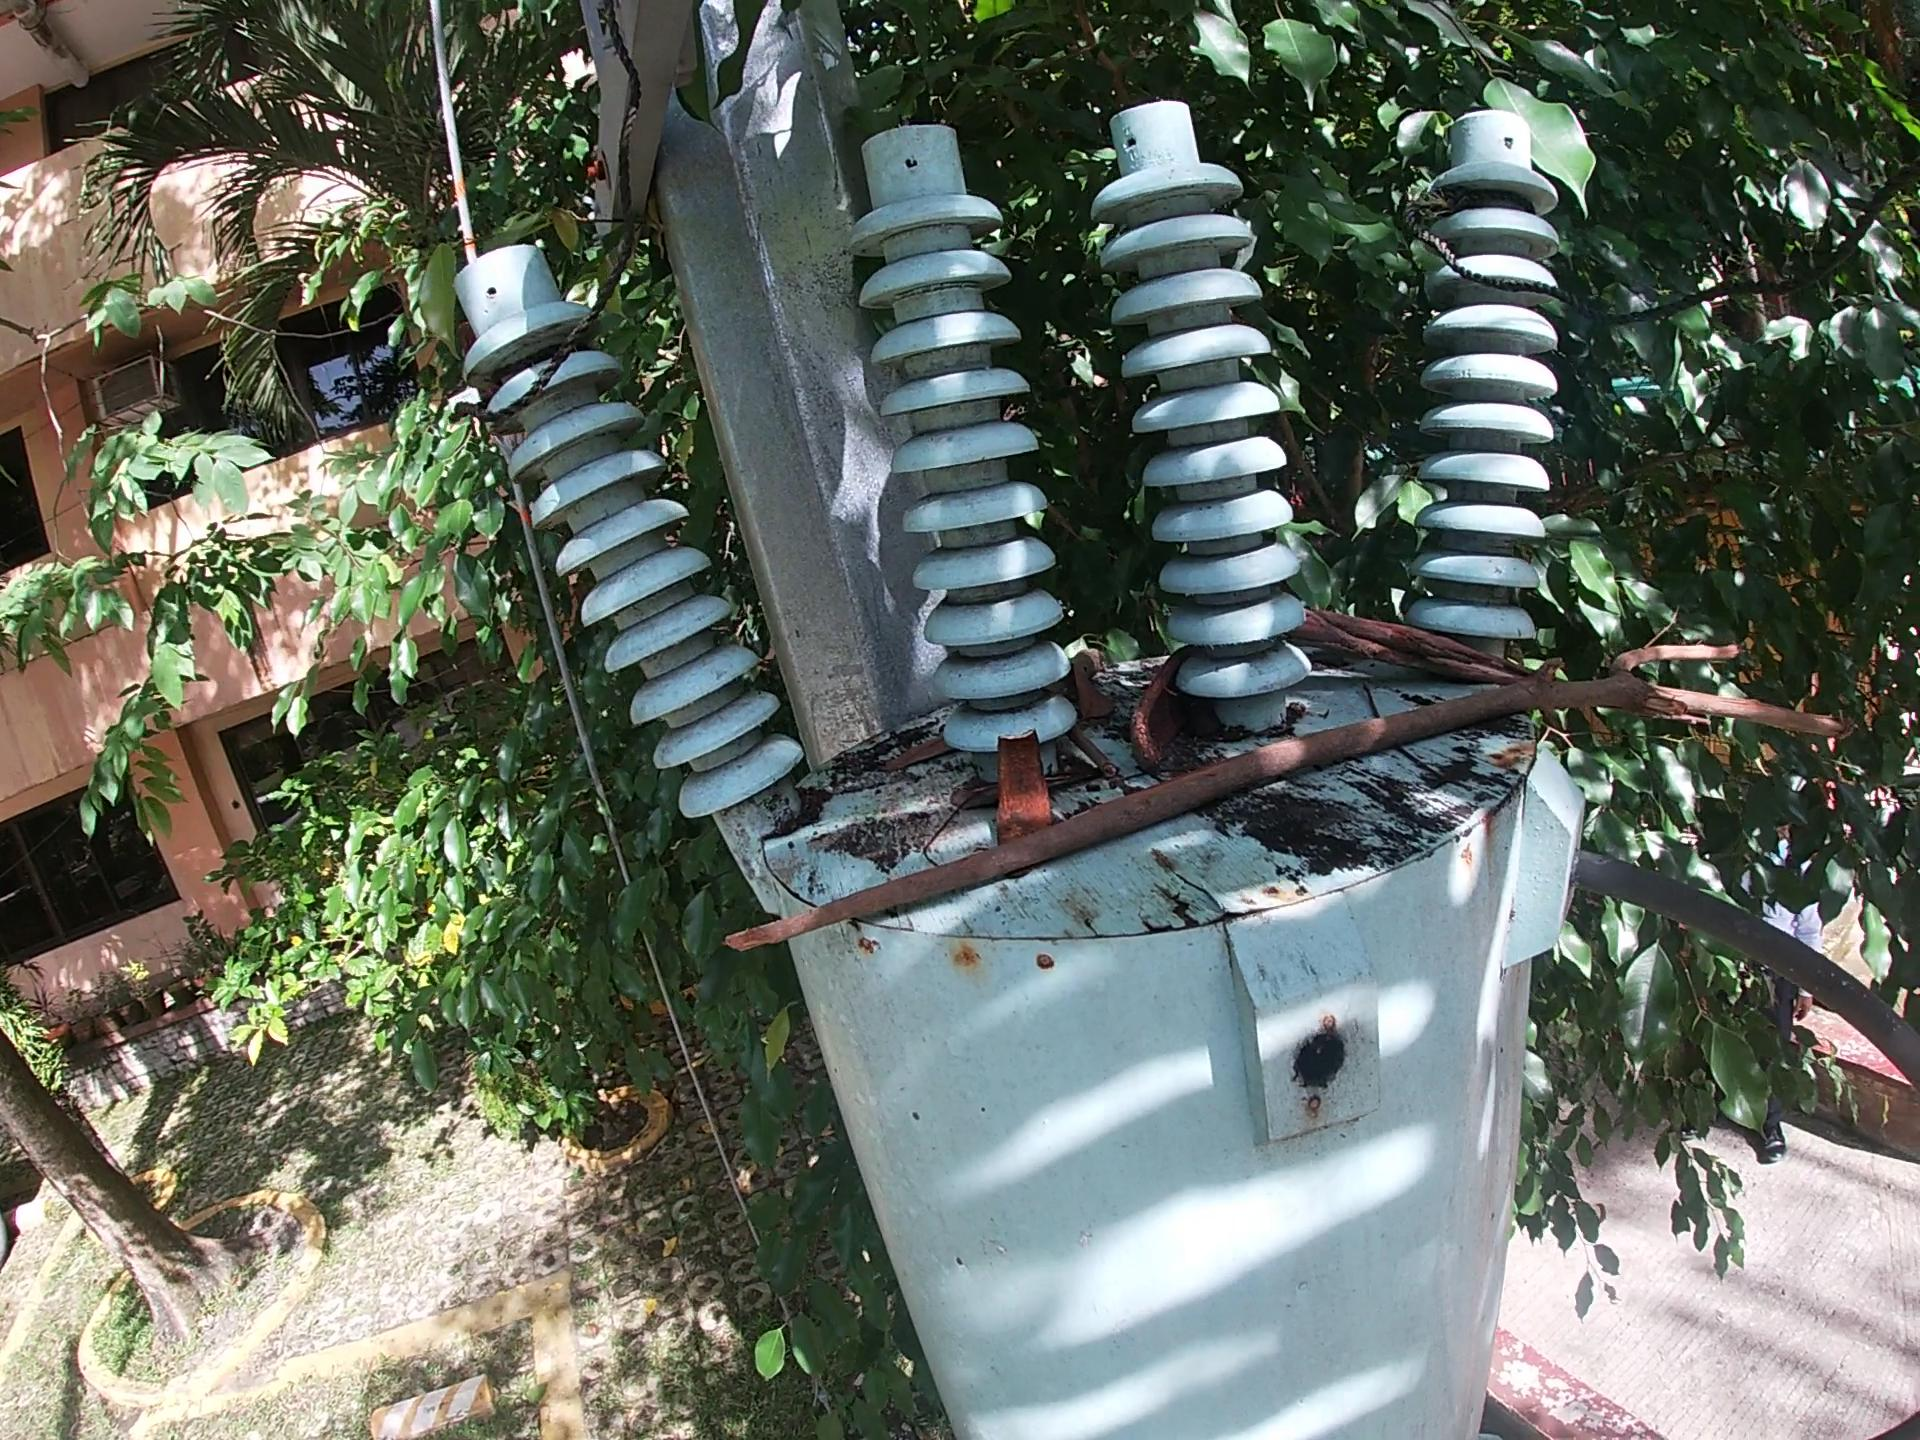leaf: (860, 725, 963, 777), (1067, 661, 1122, 723)
mahogany fruit: (1126, 641, 1203, 774), (992, 726, 1058, 849)
tree branch: (711, 638, 1860, 962), (1274, 602, 1665, 718)
